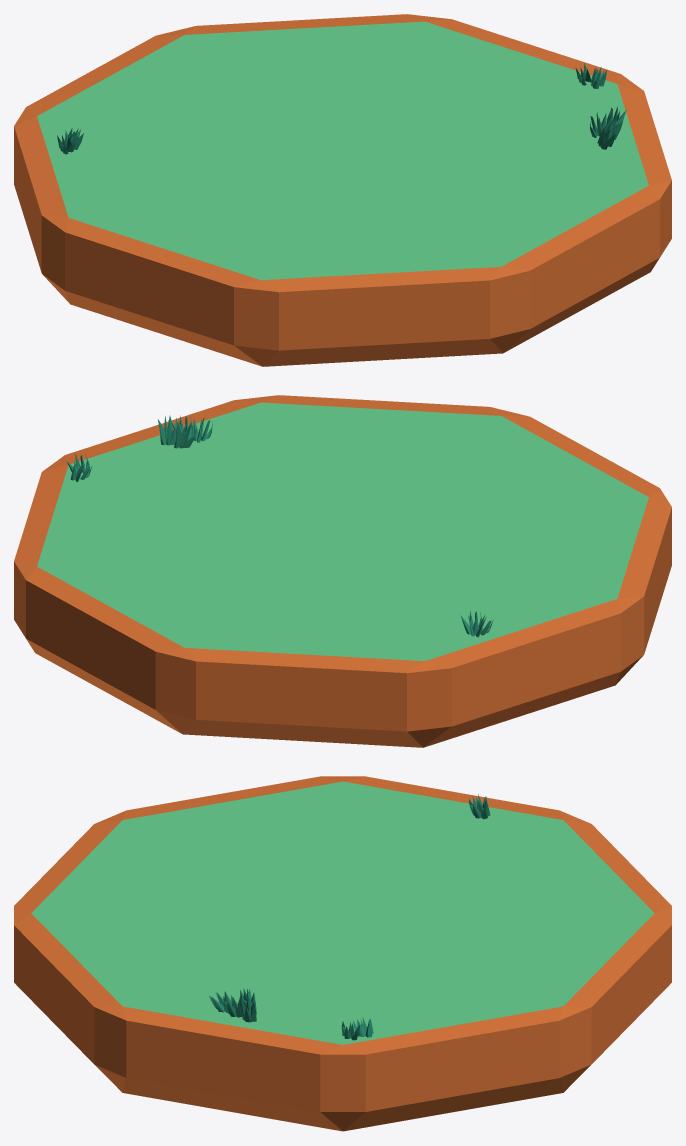
Rendered from PlataformCenter.glb.
3 renders of one model, top to bottom at view 1: azimuth 30°, elevation 25°; view 2: azimuth 150°, elevation 25°; view 3: azimuth 270°, elevation 25°, orthographic.
Visible parts, largest first — view 1: Cylinder; view 2: Cylinder; view 3: Cylinder.
Part boxes in pixels (<box>): Cylinder: <box>14,14,671,366</box>; Cylinder: <box>14,395,671,747</box>; Cylinder: <box>14,776,671,1131</box>.
Bounding box in the file's own units: 16.03 × 2.98 × 16.03.
